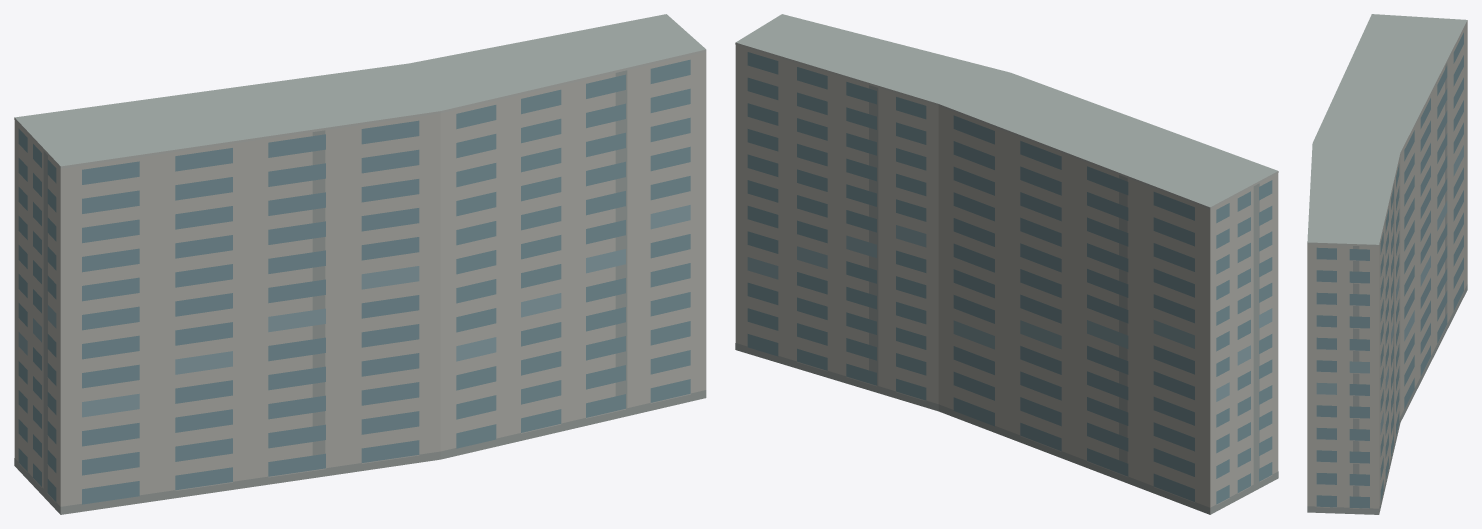
File: residential-66377f36-eaf6-4779-a70d-e06c092b23a3.glb
The picture shows the model from 3 angles, left to right: view 1: azimuth 30°, elevation 25°; view 2: azimuth 150°, elevation 25°; view 3: azimuth 270°, elevation 25°; orthographic projection. The views are drawn at different scales.
Visible parts, largest first — view 1: residential-66377f36-eaf6-4779-a70d-e06c092b23a3.tmp; view 2: residential-66377f36-eaf6-4779-a70d-e06c092b23a3.tmp; view 3: residential-66377f36-eaf6-4779-a70d-e06c092b23a3.tmp.
Part boxes in pixels (box(x1,y1,x2,y2)): residential-66377f36-eaf6-4779-a70d-e06c092b23a3.tmp: box(14, 14, 706, 514); residential-66377f36-eaf6-4779-a70d-e06c092b23a3.tmp: box(735, 14, 1278, 514); residential-66377f36-eaf6-4779-a70d-e06c092b23a3.tmp: box(1307, 14, 1467, 514).
Size of the model in its own units: 64.19 by 35 by 18.82.
